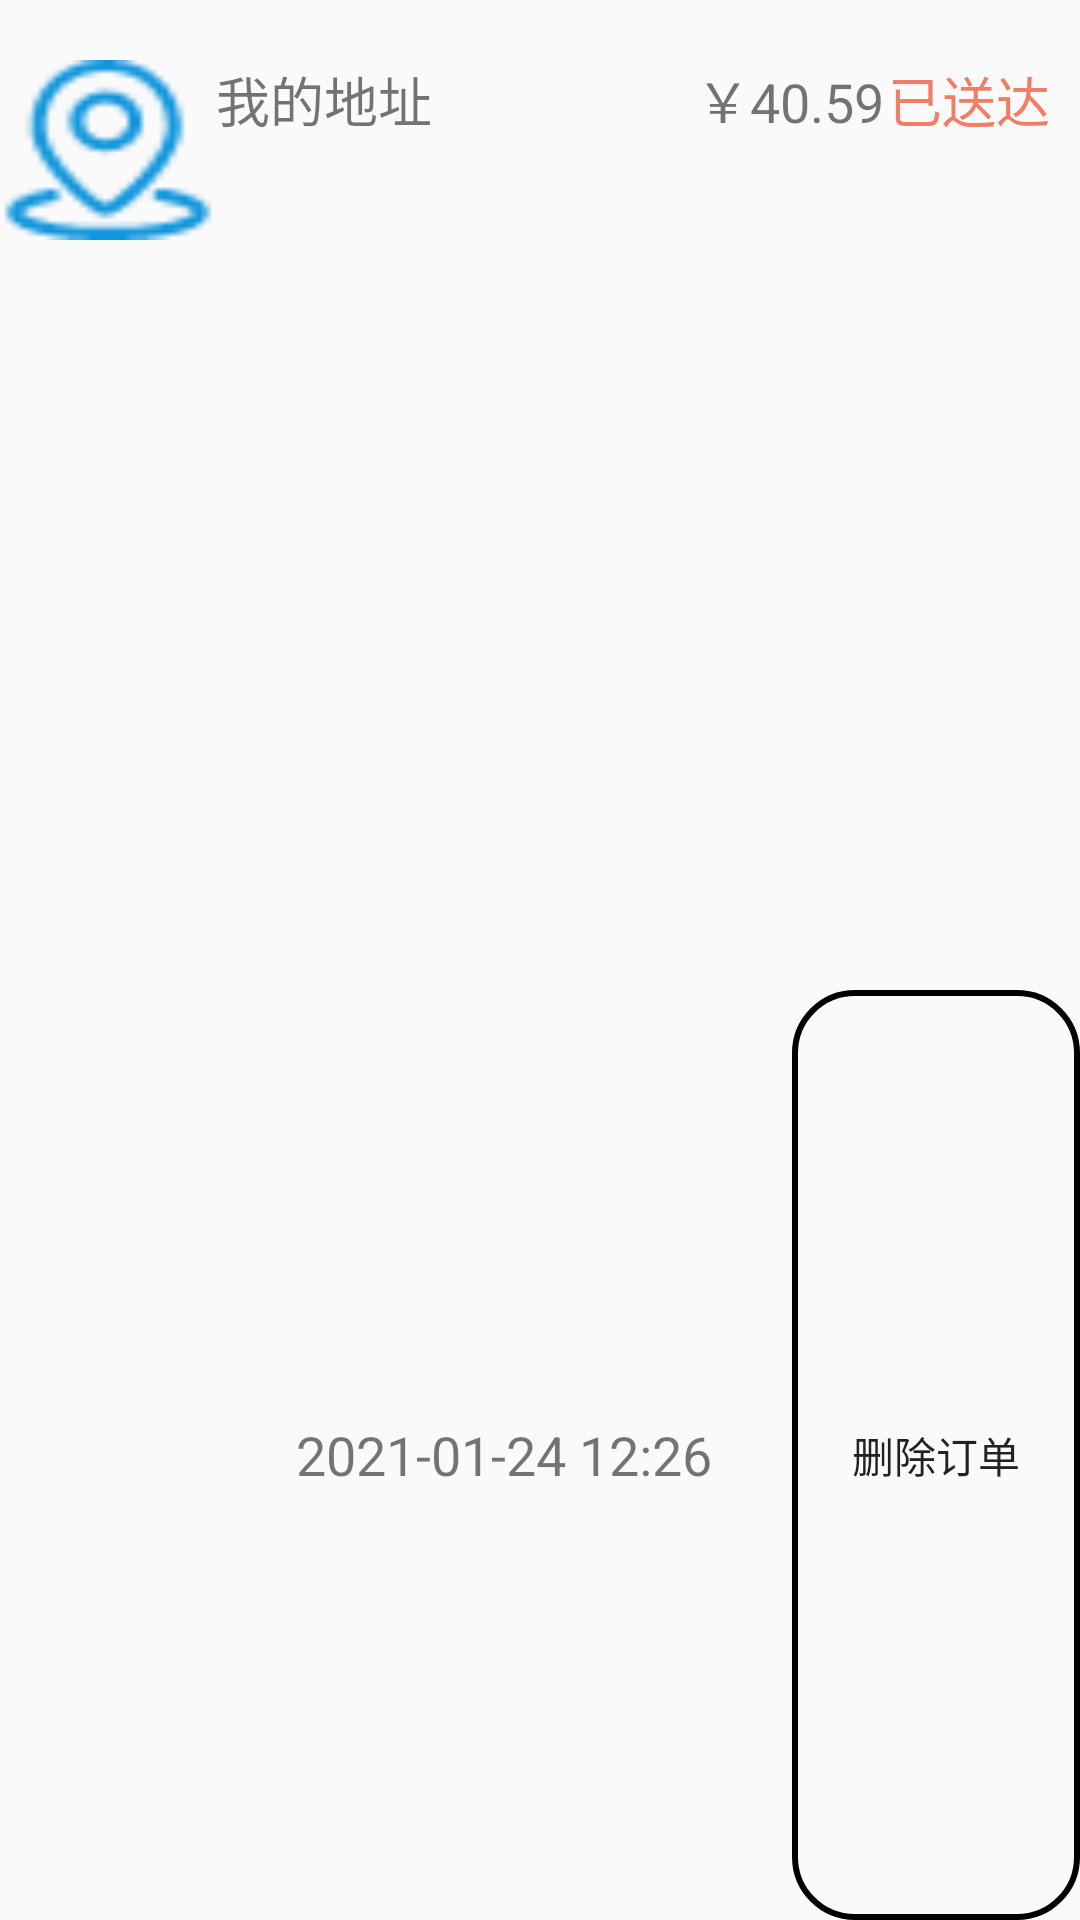

Screen size 1080*1920. Icon name, then its center in pixels as (x=x, y=y):
dizhi: (x=108, y=150)
